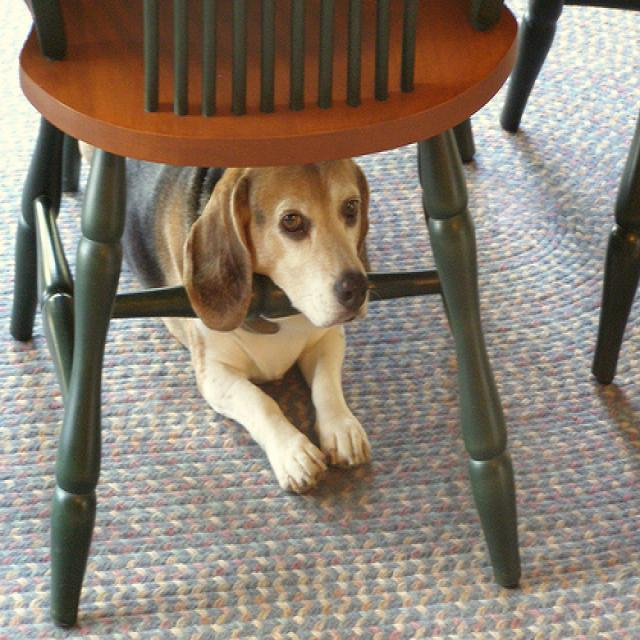dog-beagle: (120, 152, 375, 496)
